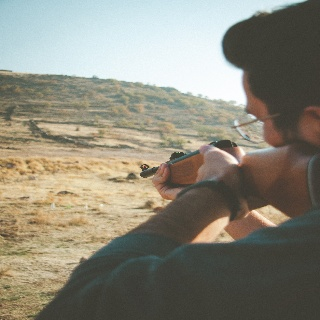rifle: (138, 137, 320, 220)
